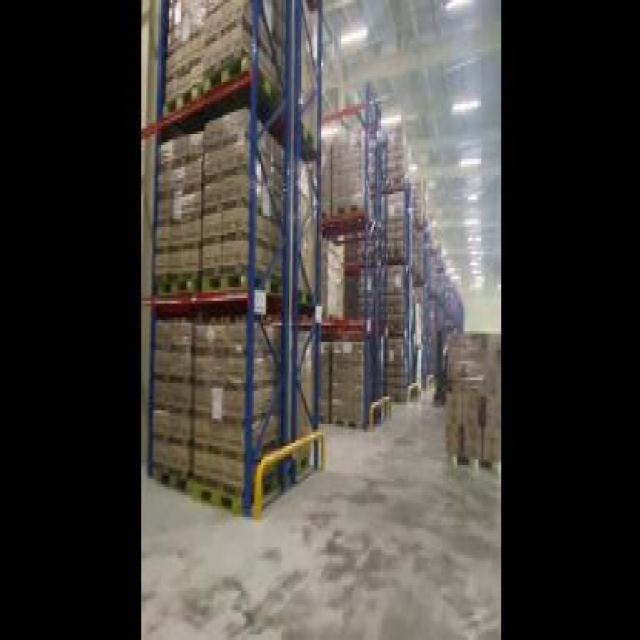box: (158, 3, 316, 514), (311, 84, 386, 427), (443, 322, 509, 478), (383, 128, 417, 396), (417, 181, 431, 391)
